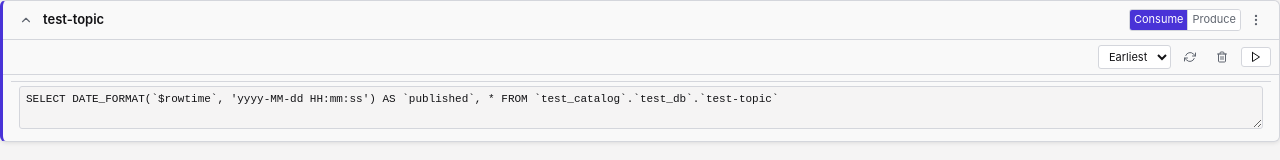
Test: [@stream-card] StreamCard › collapse toggle shows/hides card body
The width and height of the screenshot is (1280, 160).
Expected: the text box named "SQL query" is shown, left=19, top=86, right=1263, bottom=129
// Click collapse
Click the button named "Collapse card": click(26, 20) left=13, top=7, right=39, bottom=33
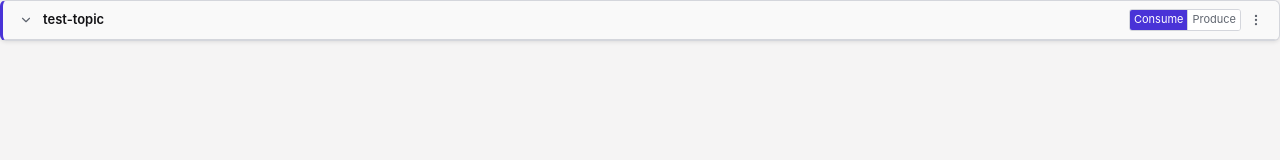
Expected: the button named "Expand card" is collapsed, left=13, top=7, right=39, bottom=33
